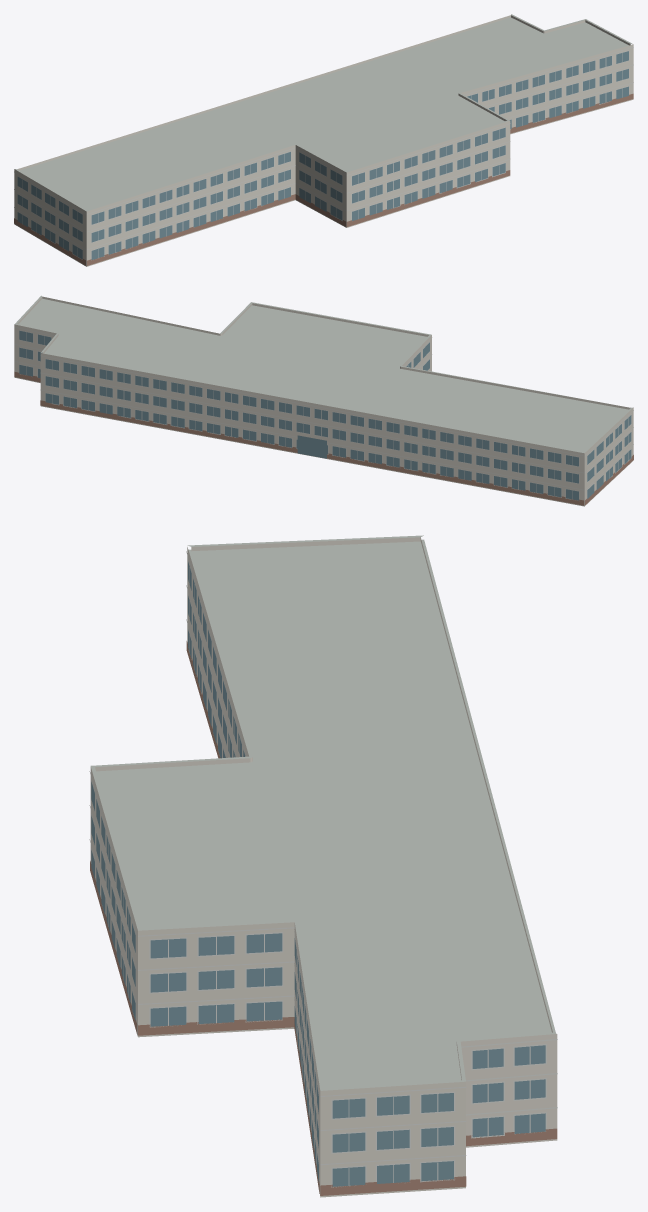
The model's file is public-d9392a0c-ffe4-4022-b2e6-0ee6bd5d9b24.glb.
The picture shows the model from 3 angles, top to bottom: view 1: azimuth 30°, elevation 25°; view 2: azimuth 150°, elevation 25°; view 3: azimuth 270°, elevation 25°; orthographic projection. The views are drawn at different scales.
Parts seen in each view (by area): view 1: public-d9392a0c-ffe4-4022-b2e6-0ee6bd5d9b24; view 2: public-d9392a0c-ffe4-4022-b2e6-0ee6bd5d9b24; view 3: public-d9392a0c-ffe4-4022-b2e6-0ee6bd5d9b24.
Boxes of the visible parts, box(x1,y1,x2,y2) form: public-d9392a0c-ffe4-4022-b2e6-0ee6bd5d9b24: box(14, 14, 633, 266); public-d9392a0c-ffe4-4022-b2e6-0ee6bd5d9b24: box(14, 295, 633, 506); public-d9392a0c-ffe4-4022-b2e6-0ee6bd5d9b24: box(89, 535, 557, 1197).
Bounding box in the file's own units: 102 × 9.15 × 36.46.
